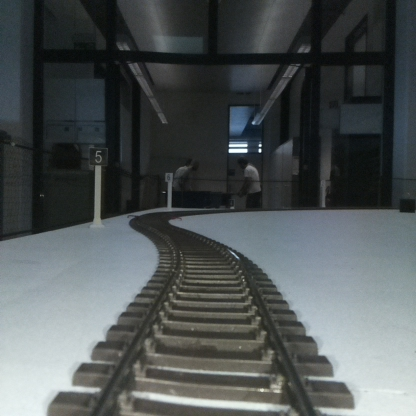black-info-5: (90, 148, 107, 226)
